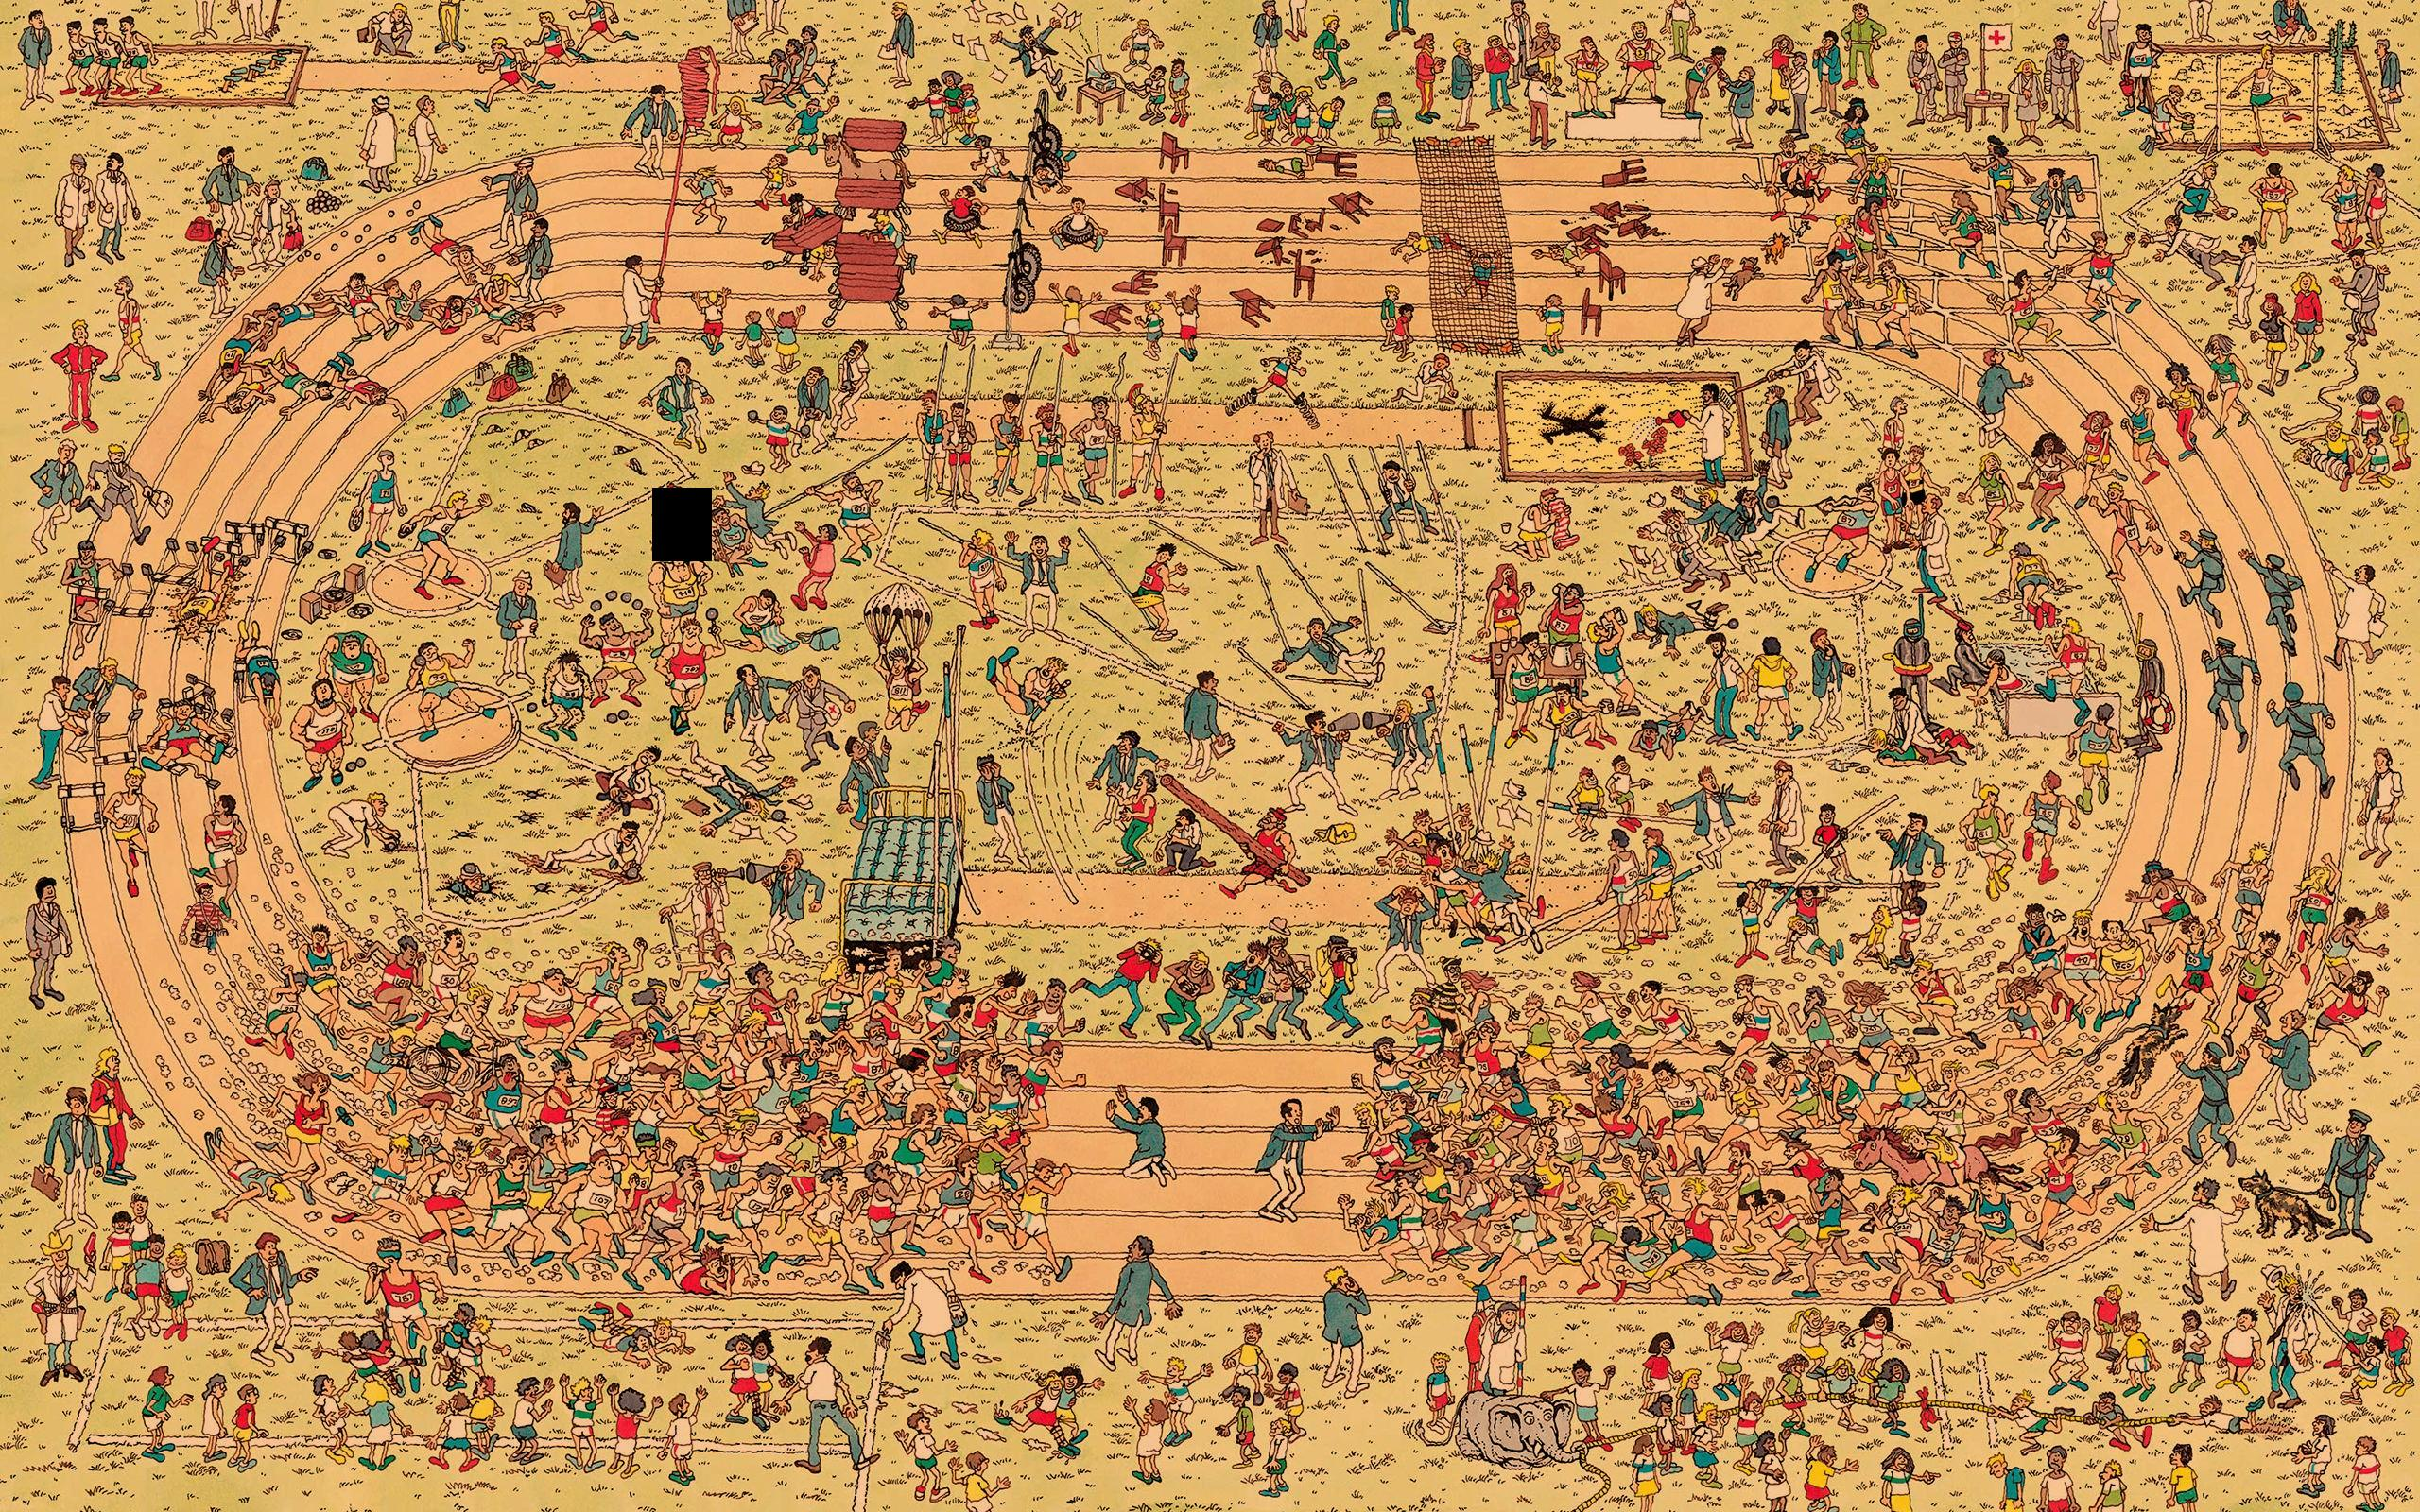waldos: (179, 883, 239, 956)
